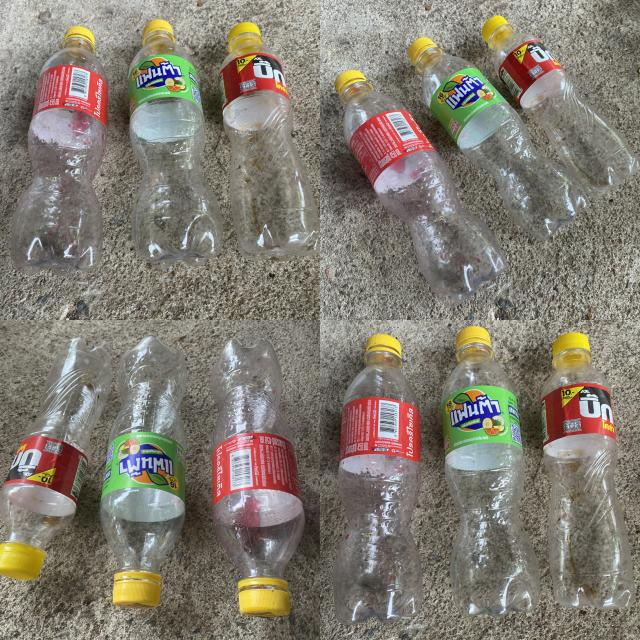plastik: (335, 70, 505, 306), (409, 38, 586, 240), (482, 16, 640, 198), (441, 326, 539, 616), (0, 339, 111, 579), (211, 339, 305, 617), (541, 332, 635, 609), (334, 335, 422, 624), (11, 26, 108, 274), (100, 336, 186, 608), (220, 22, 318, 260), (129, 20, 222, 268)
